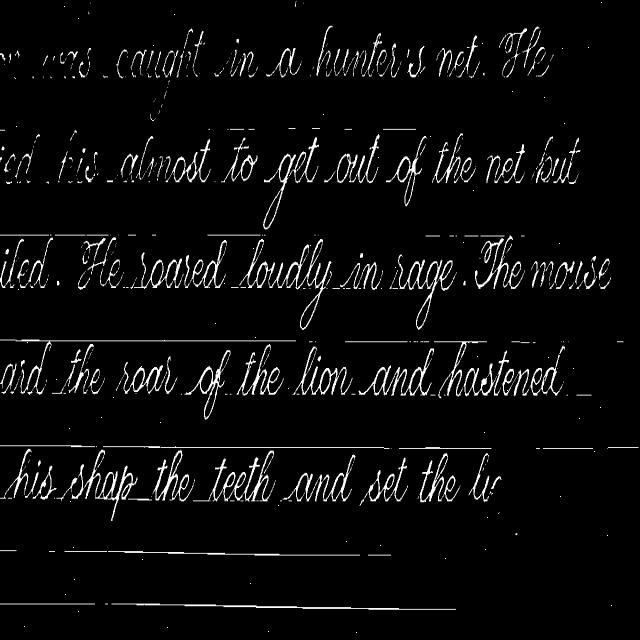noise: (100, 601, 456, 612), (47, 548, 392, 559), (0, 48, 91, 79), (58, 131, 97, 183), (103, 444, 392, 451), (0, 134, 40, 184), (0, 337, 296, 343), (398, 445, 492, 452), (0, 443, 98, 449), (0, 602, 98, 607), (534, 446, 594, 452), (345, 340, 430, 343), (0, 540, 17, 554), (226, 127, 254, 134), (54, 233, 110, 236), (432, 340, 487, 343), (463, 234, 504, 238), (207, 233, 260, 236), (0, 233, 51, 236), (606, 445, 640, 449), (616, 337, 627, 348), (510, 340, 536, 344), (382, 127, 416, 130), (575, 391, 592, 396), (106, 175, 114, 182), (0, 127, 7, 132), (344, 128, 354, 131), (425, 235, 440, 237), (520, 231, 525, 237), (128, 233, 136, 236), (288, 127, 295, 129), (448, 235, 459, 236), (311, 127, 320, 128)
not-noise: (0, 341, 565, 419), (0, 445, 501, 508), (230, 238, 456, 329), (265, 26, 482, 78), (78, 236, 228, 289), (475, 236, 610, 289), (116, 42, 204, 118), (263, 136, 319, 228), (484, 136, 580, 184), (120, 137, 210, 182), (498, 27, 554, 78), (386, 136, 427, 205), (0, 236, 52, 286), (333, 134, 381, 183), (430, 133, 476, 183), (222, 138, 256, 181), (225, 39, 258, 76), (464, 281, 466, 285)
